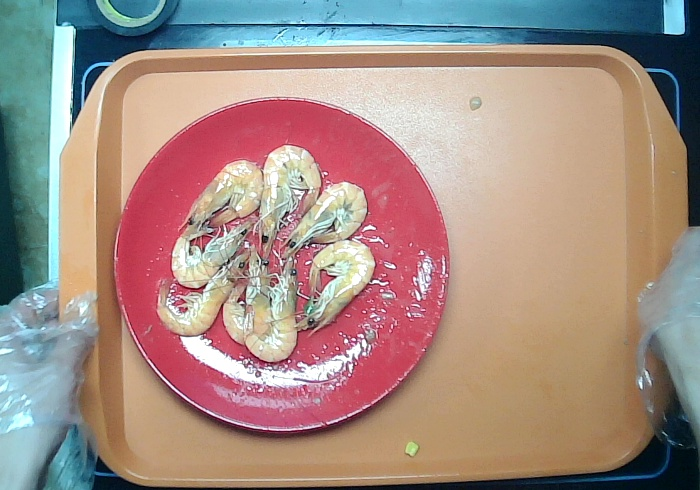HZYJPL-Hong_Se_Yuan_Pan: (111, 97, 453, 434)
